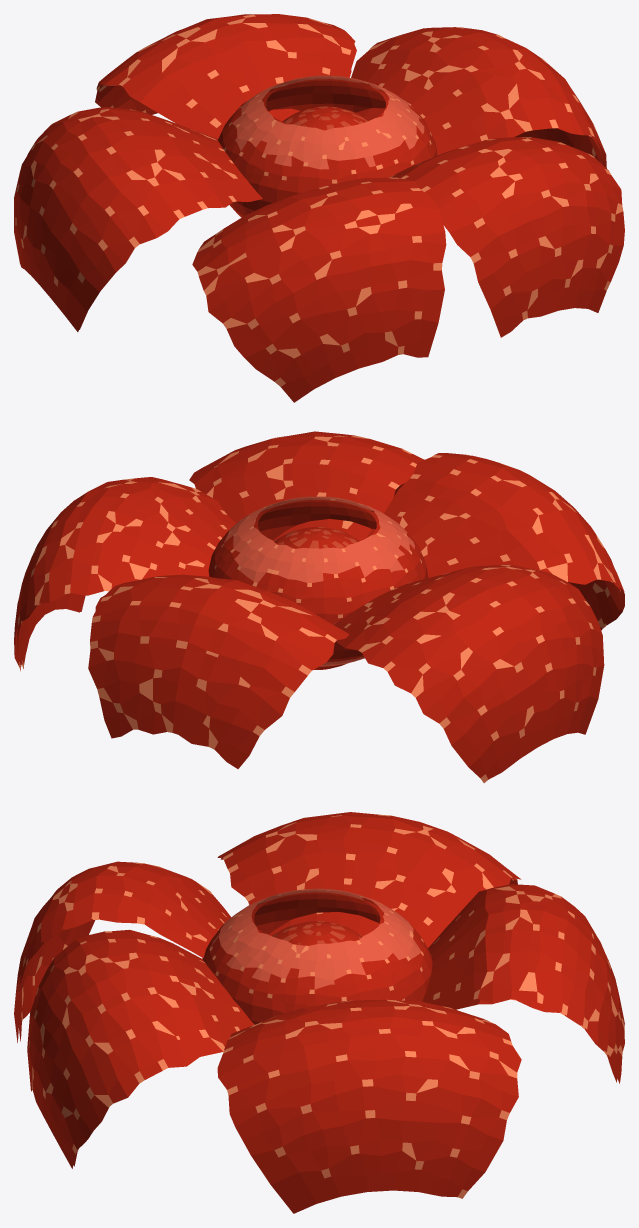
Rendered from Rafflesia.glb.
3 views of the same model, one above another, from view 1: azimuth 30°, elevation 25°; view 2: azimuth 150°, elevation 25°; view 3: azimuth 270°, elevation 25° (orthographic). The views are drawn at different scales.
Parts seen in each view (by area): view 1: Rafflesia; view 2: Rafflesia; view 3: Rafflesia.
Part boxes in pixels (left/top/right/bottom): Rafflesia: left=14, top=14, right=624, bottom=402; Rafflesia: left=14, top=431, right=624, bottom=782; Rafflesia: left=14, top=812, right=624, bottom=1213.
Size of the model in its own units: 5.38 by 1.77 by 5.16.
